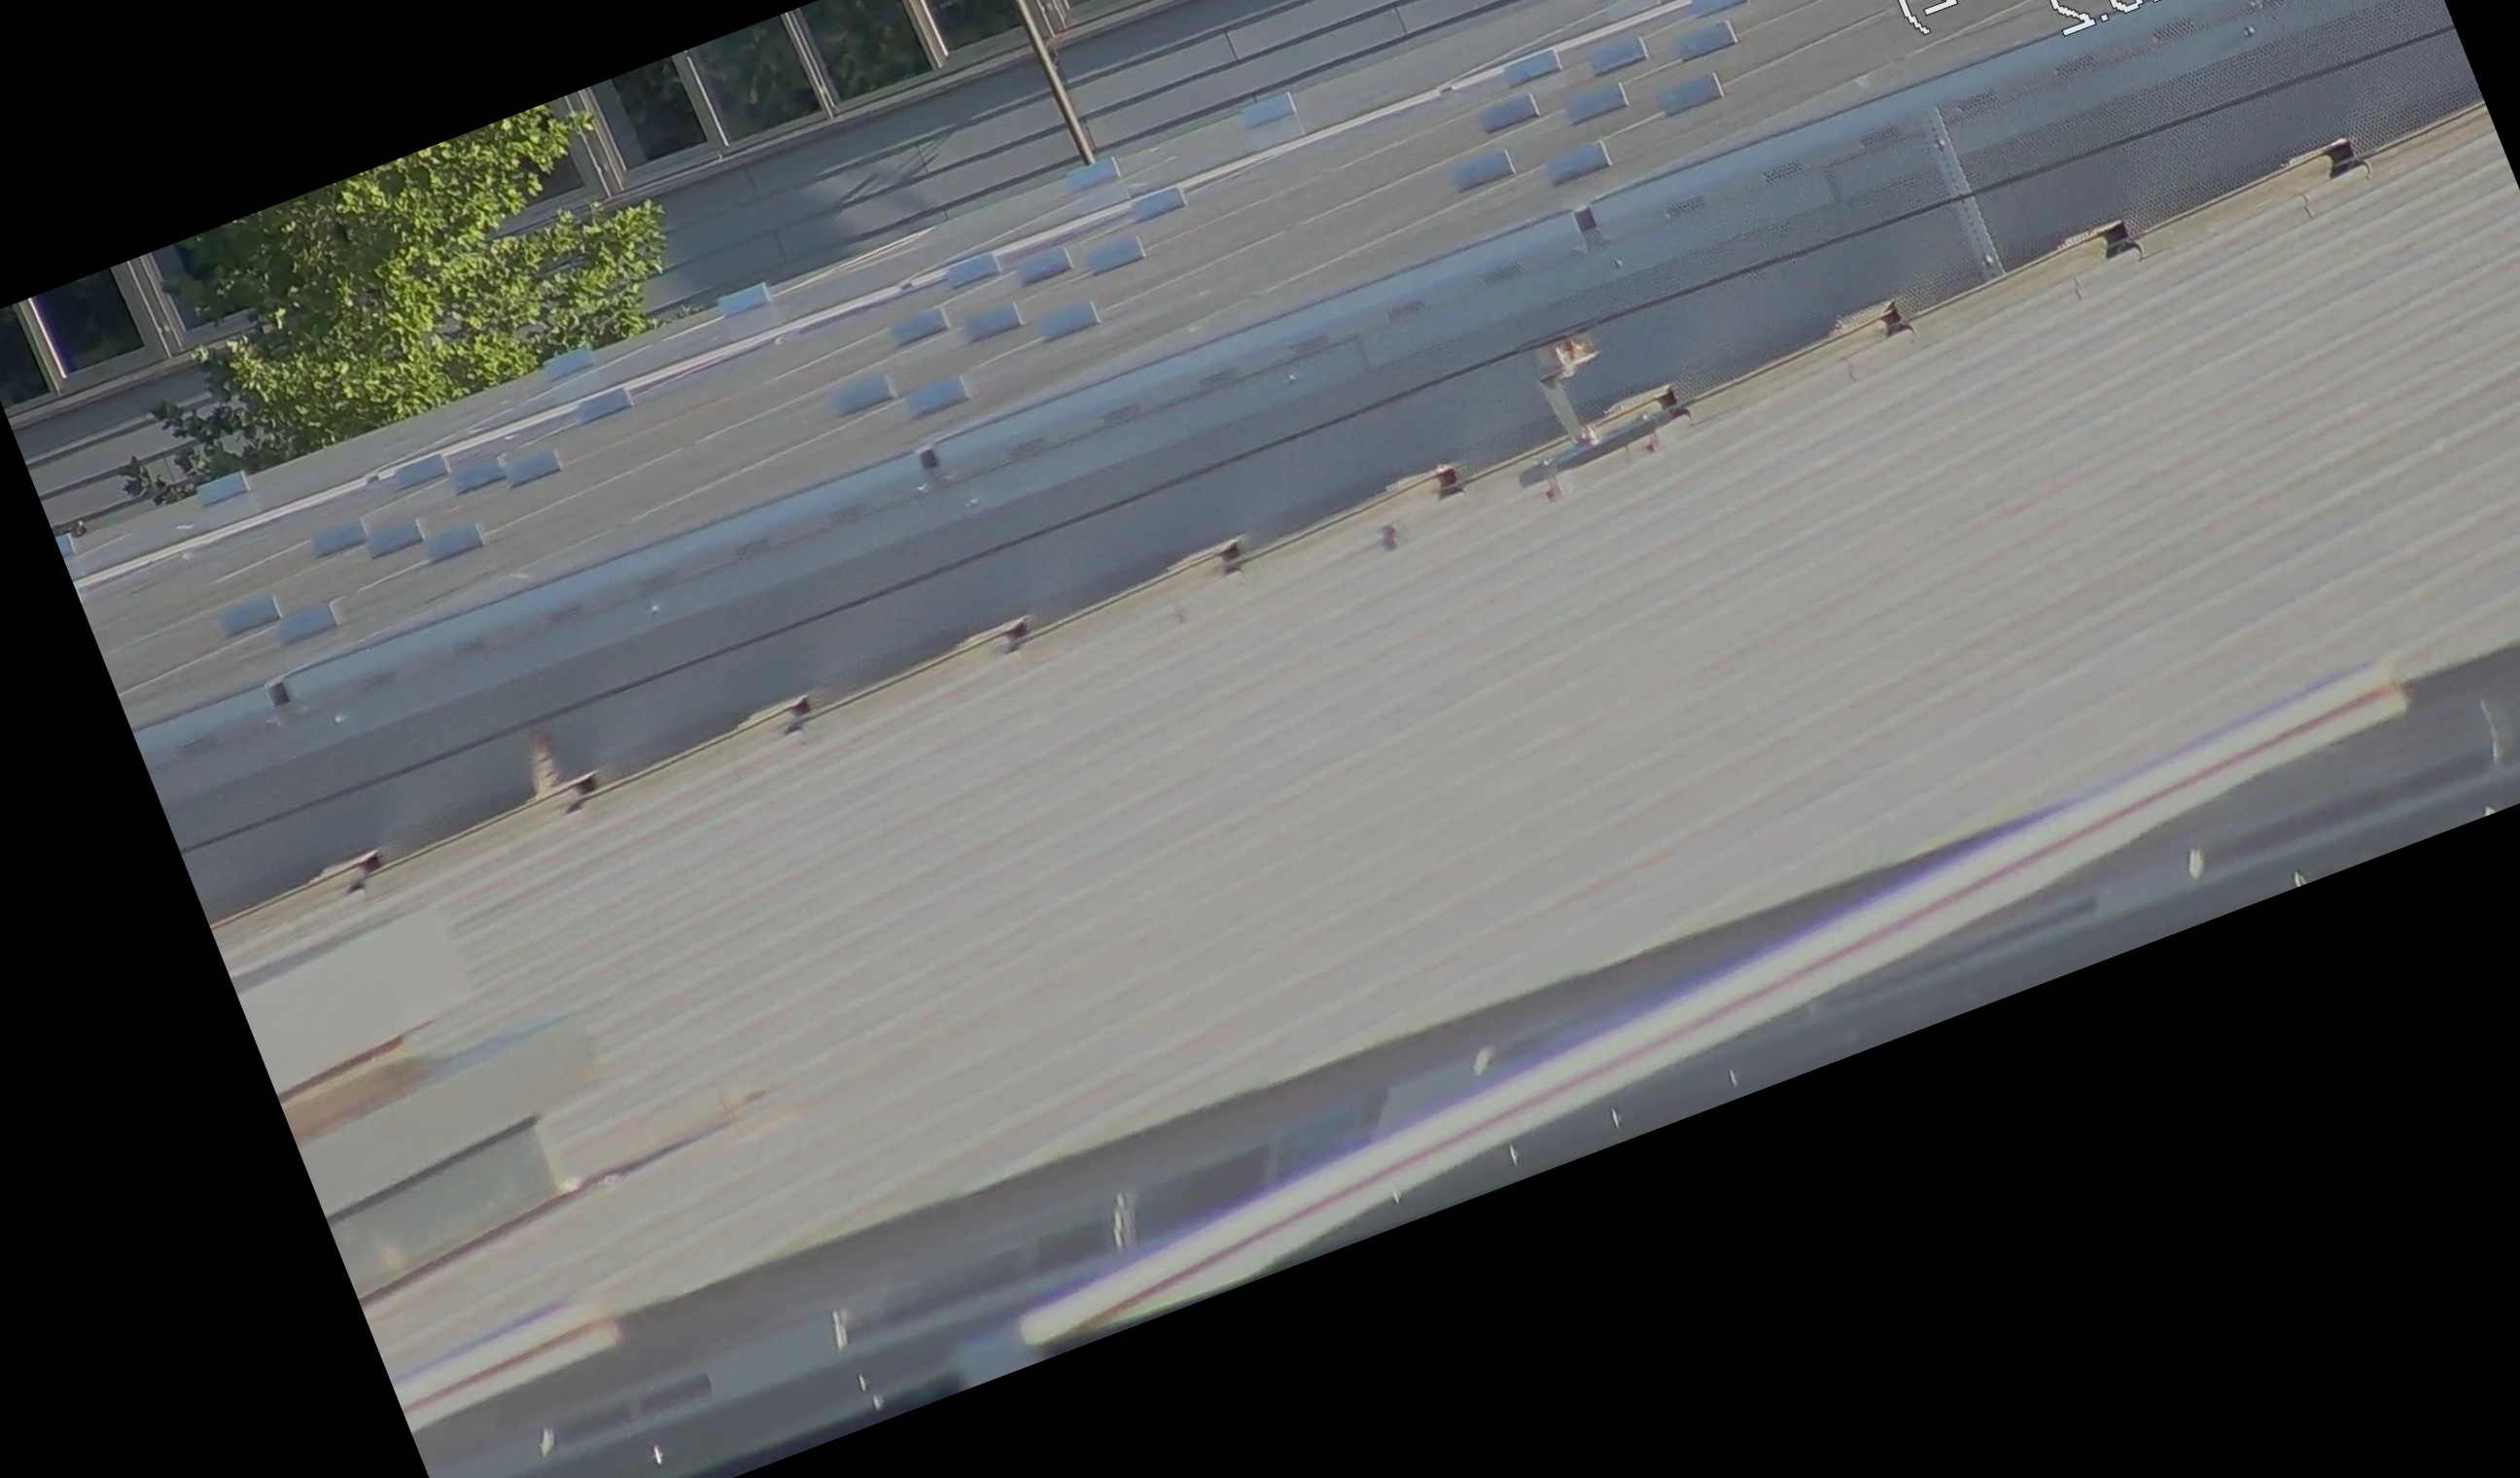Other: (494, 709, 600, 829)
